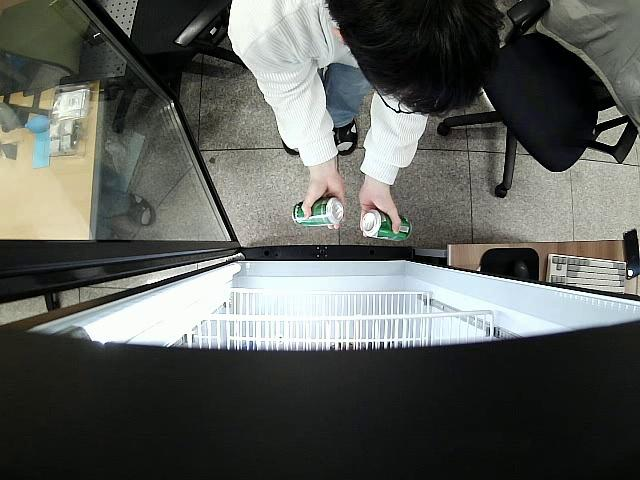00_hand: (302, 177, 346, 231), (359, 187, 400, 239)
12_chilsungCider: (362, 207, 413, 241), (292, 197, 343, 229)
